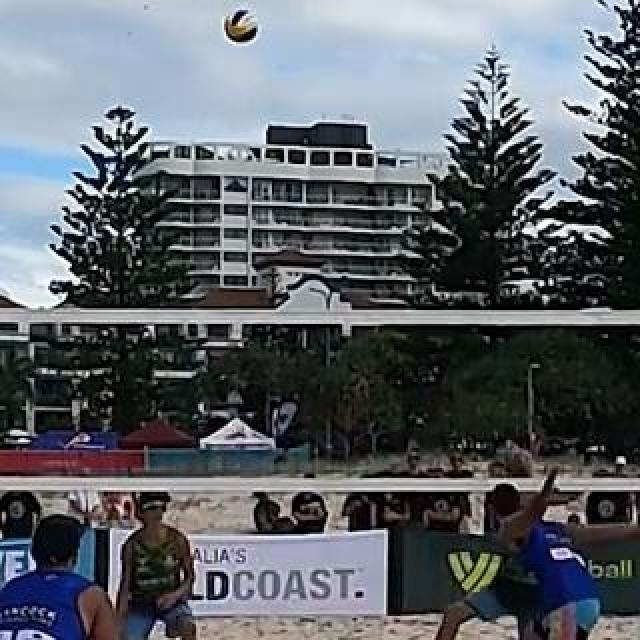volleyball: (223, 11, 259, 43)
